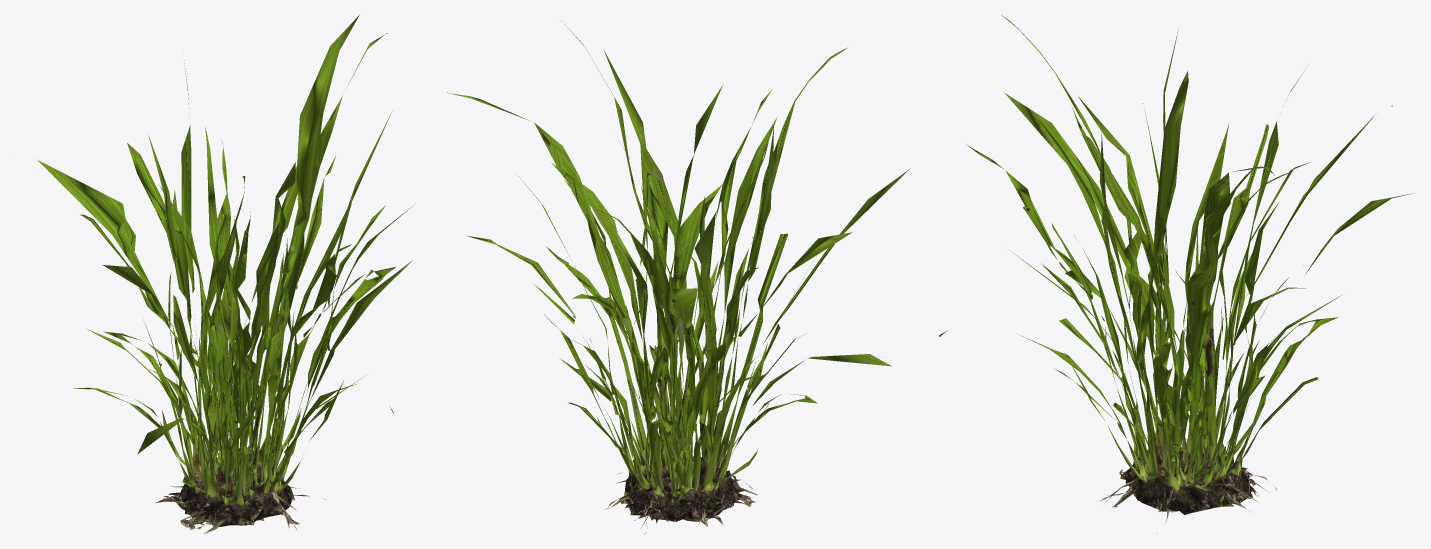
File: sedge.glb
The picture shows the model from 3 angles, left to right: view 1: azimuth 30°, elevation 25°; view 2: azimuth 150°, elevation 25°; view 3: azimuth 270°, elevation 25°; orthographic projection. The views are drawn at different scales.
Visible parts, largest first — view 1: sedge_src; view 2: sedge_src; view 3: sedge_src.
Boxes of the visible parts, box(x1,y1,x2,y2) form: sedge_src: box(37, 15, 415, 533); sedge_src: box(447, 17, 910, 534); sedge_src: box(939, 15, 1413, 532).
Bounding box in the file's own units: 1.46 × 1.85 × 1.63.
1 material, 1 textured.
